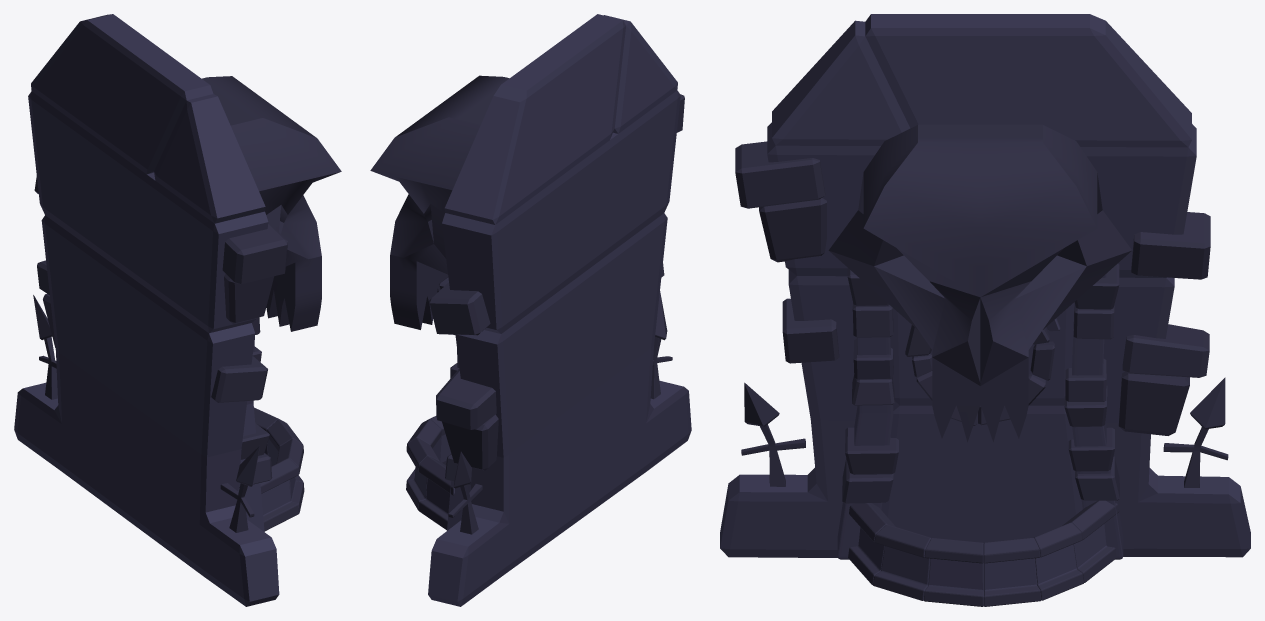
The model's file is waterfall.fbx.
3 views of the same model, side by side, from view 1: azimuth 30°, elevation 25°; view 2: azimuth 150°, elevation 25°; view 3: azimuth 270°, elevation 25° (orthographic). The views are drawn at different scales.
Parts seen in each view (by area): view 1: Cube.061; view 2: Cube.061; view 3: Cube.061.
Boxes of the visible parts, <box> form: Cube.061: <box>14,14,341,606</box>; Cube.061: <box>370,14,691,606</box>; Cube.061: <box>720,14,1250,606</box>.
Bounding box in the file's own units: 841 × 2005 × 1823.
